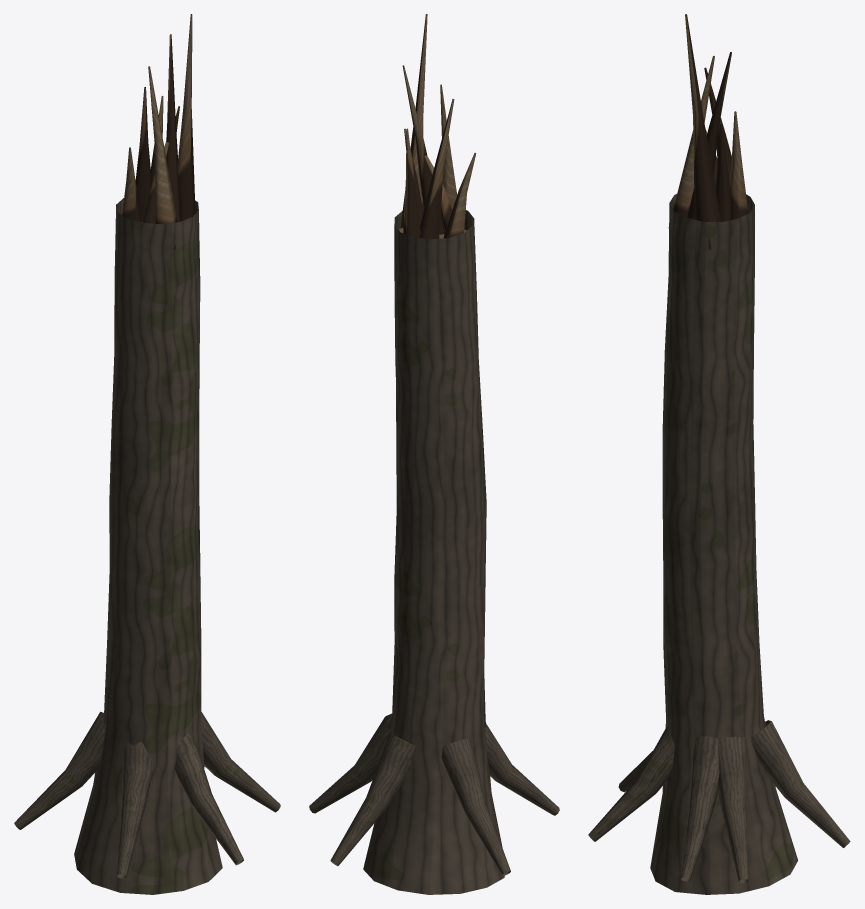
The model's file is S7U_Tree_Stump_C.fbx.
3 views of the same model, side by side, from view 1: azimuth 30°, elevation 25°; view 2: azimuth 150°, elevation 25°; view 3: azimuth 270°, elevation 25° (orthographic). The views are drawn at different scales.
Parts seen in each view (by area): view 1: S7U_Tree_Stump_C; view 2: S7U_Tree_Stump_C; view 3: S7U_Tree_Stump_C.
Boxes of the visible parts, left/top/right/bottom form: S7U_Tree_Stump_C: left=14, top=14, right=280, bottom=894; S7U_Tree_Stump_C: left=309, top=14, right=559, bottom=894; S7U_Tree_Stump_C: left=588, top=14, right=850, bottom=894.
Bounding box in the file's own units: 1.01 × 3.72 × 1.02.
